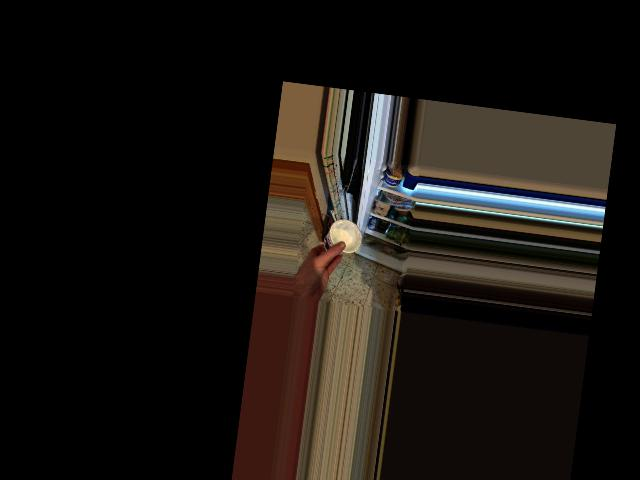cotage: (319, 214, 364, 258)
